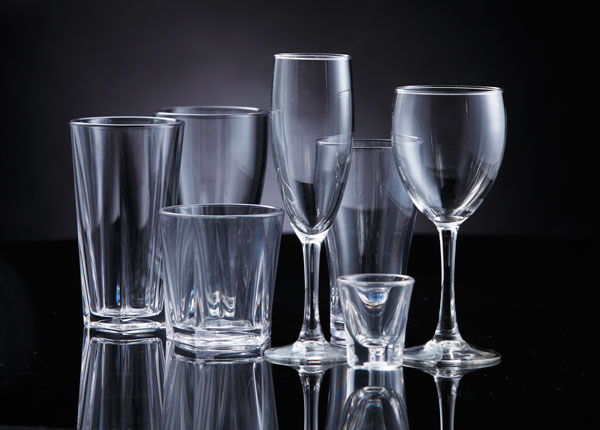Nonrec_Glass: (392, 70, 514, 376), (61, 101, 185, 339), (267, 40, 345, 381), (319, 128, 420, 387), (157, 196, 284, 366), (148, 99, 273, 216)
